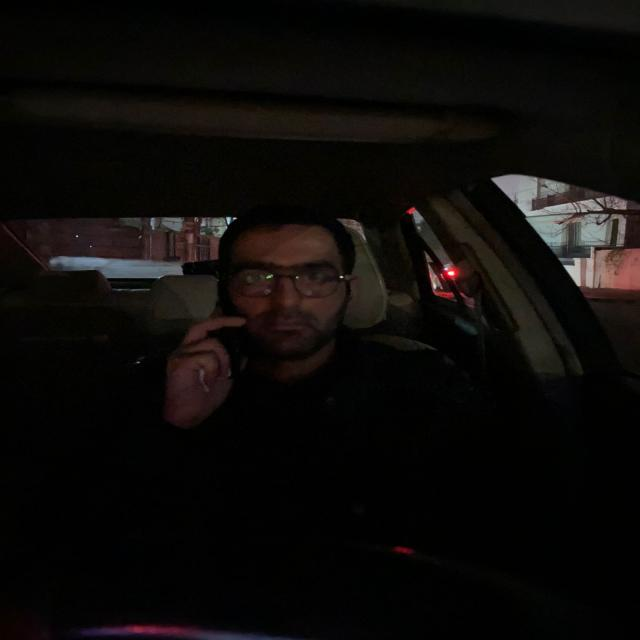mobile: (208, 300, 247, 379)
person: (221, 219, 362, 364)
